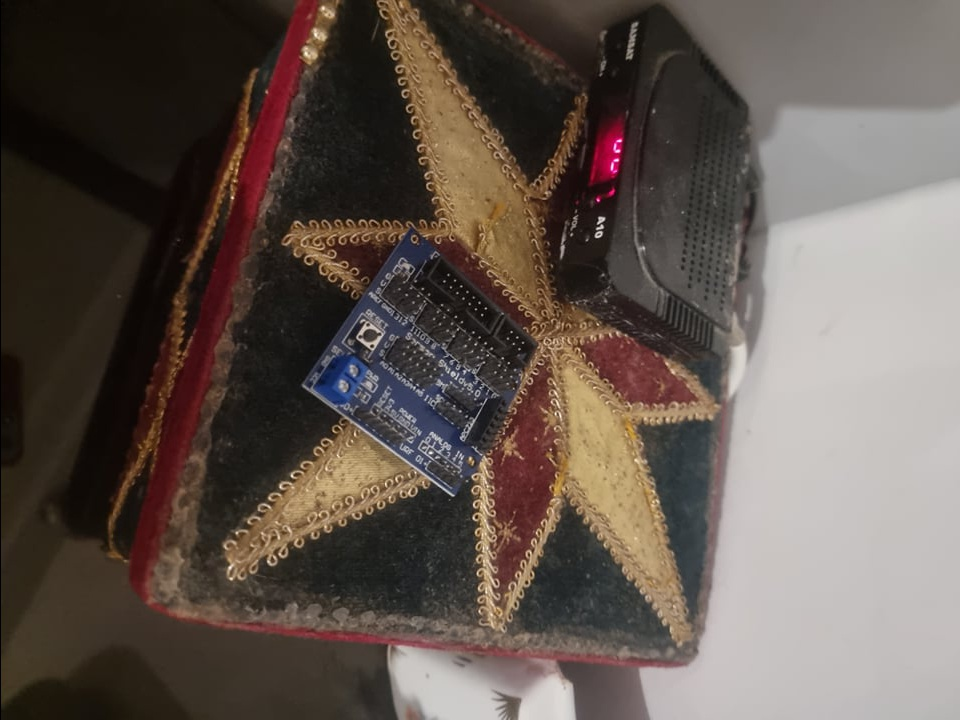5V EXPANSION: (299, 228, 533, 497)
